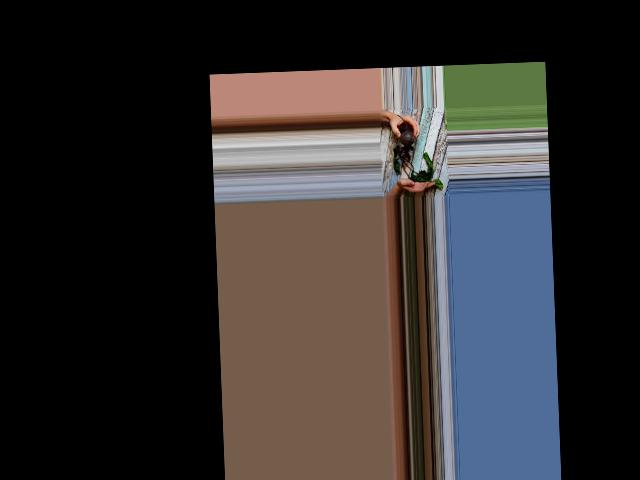beet: (392, 112, 443, 191)
